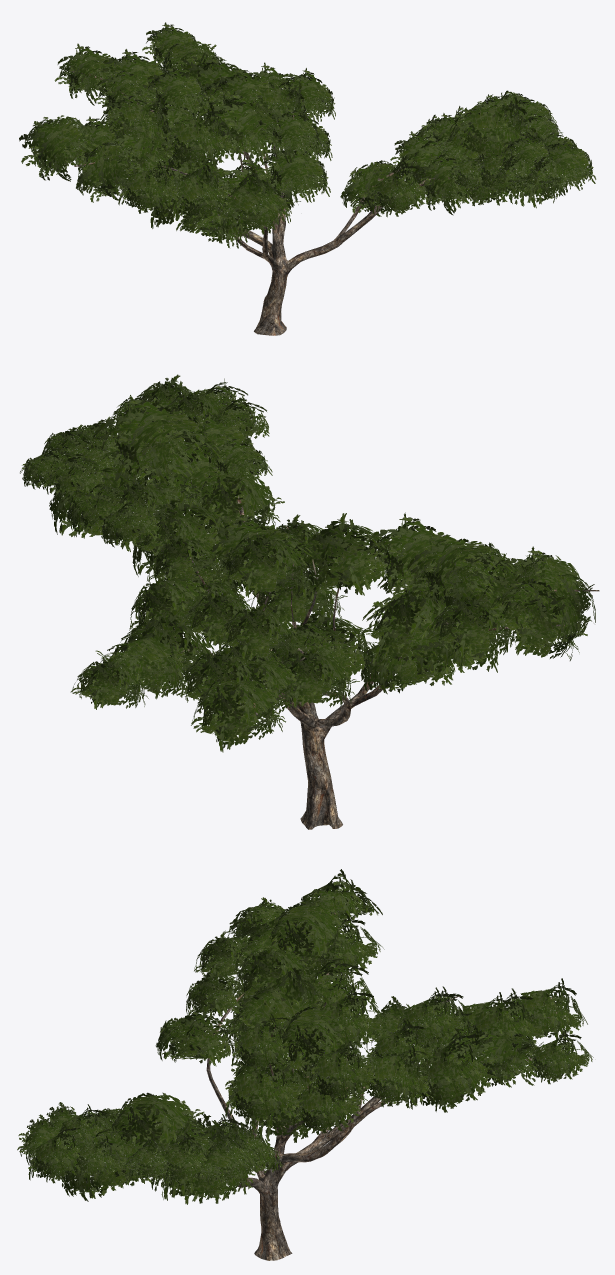
The model's file is AcaciaTree16K.fbx.
3 renders of one model, top to bottom at view 1: azimuth 30°, elevation 25°; view 2: azimuth 150°, elevation 25°; view 3: azimuth 270°, elevation 25°, orthographic. The views are drawn at different scales.
Parts seen in each view (by area): view 1: Acaian_Tree11k; view 2: Acaian_Tree11k; view 3: Acaian_Tree11k.
Boxes of the visible parts, x1=… form: Acaian_Tree11k: x1=19, y1=22, x2=596, y2=335; Acaian_Tree11k: x1=20, y1=374, x2=599, y2=829; Acaian_Tree11k: x1=17, y1=869, x2=593, y2=1260.
Bounding box in the file's own units: 4601 × 2379 × 4430.
